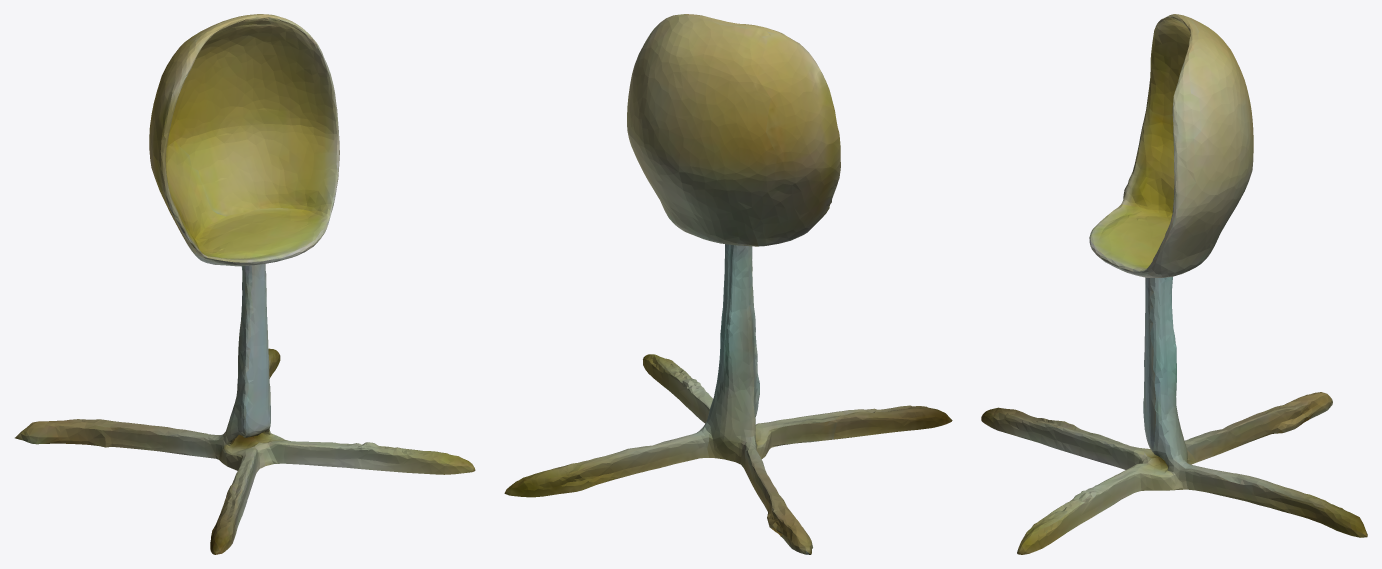
3 renders of one model, left to right at view 1: azimuth 30°, elevation 25°; view 2: azimuth 150°, elevation 25°; view 3: azimuth 270°, elevation 25°, orthographic. The views are drawn at different scales.
Parts seen in each view (by area): view 1: world; view 2: world; view 3: world.
Part boxes in pixels (left/top/right/bottom): world: left=15, top=14, right=475, bottom=554; world: left=504, top=14, right=952, bottom=554; world: left=981, top=14, right=1367, bottom=554.
Bounding box in the file's own units: 0.3594 × 0.4767 × 0.3724.
Materials: 1 (1 with a texture image).
